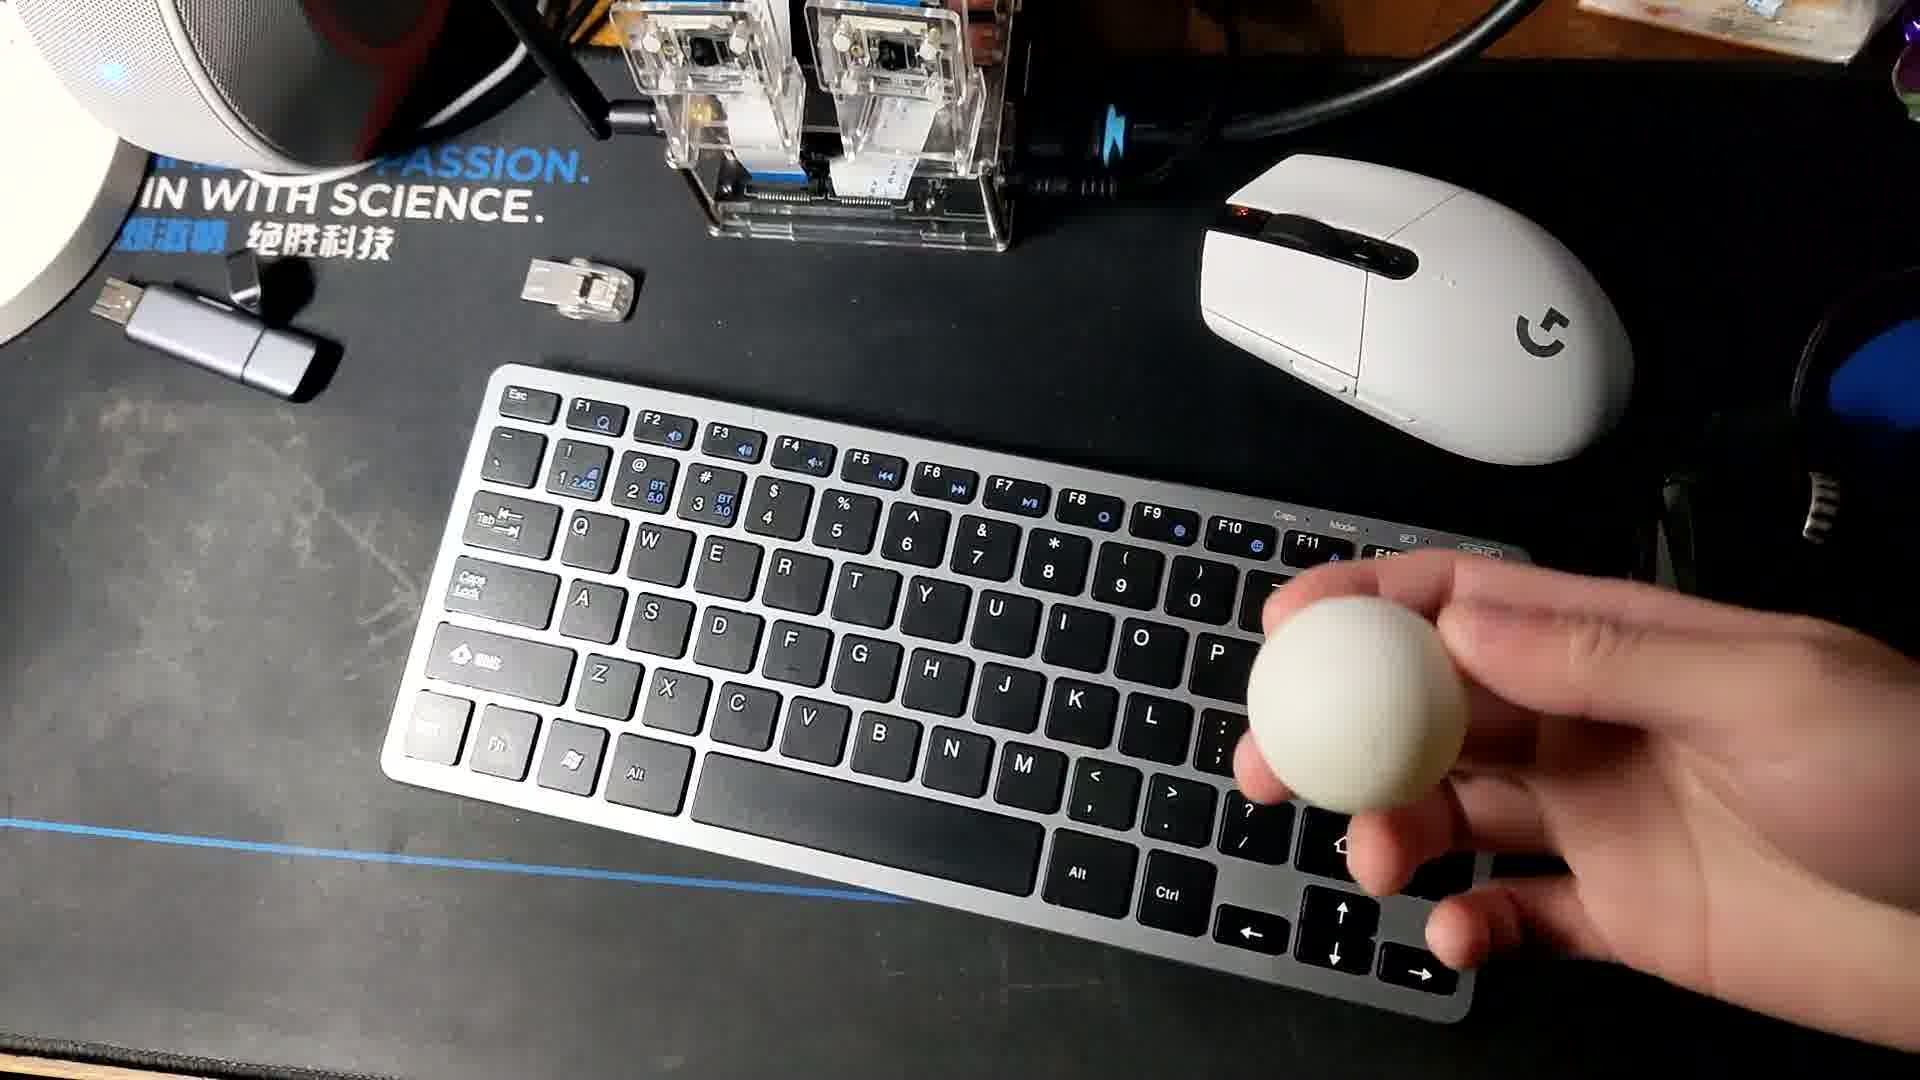Ball: (1246, 589, 1470, 814)
